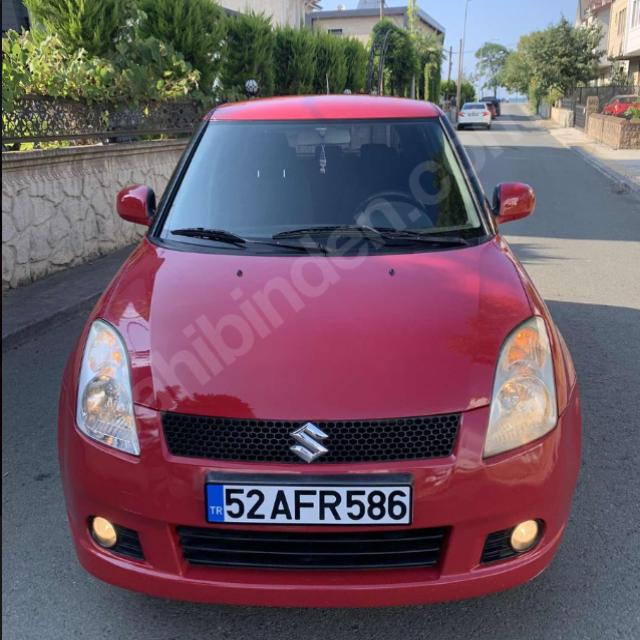suzuki: (286, 416, 332, 466)
